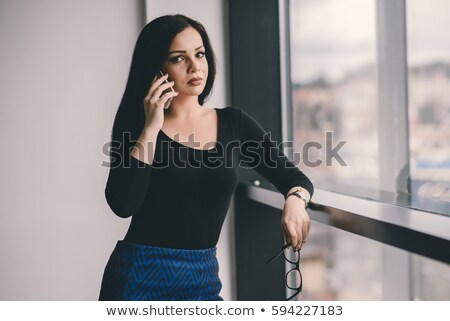phone: (147, 69, 182, 116)
talk: (143, 43, 211, 126)
